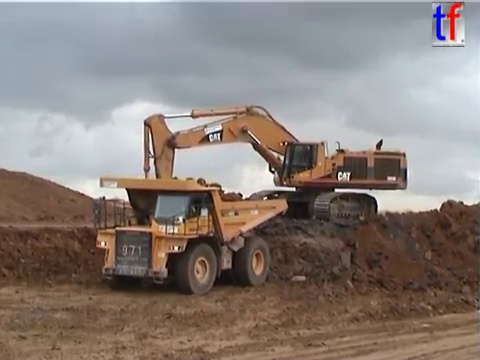excavator: (137, 102, 410, 230)
truck: (91, 173, 290, 297)
